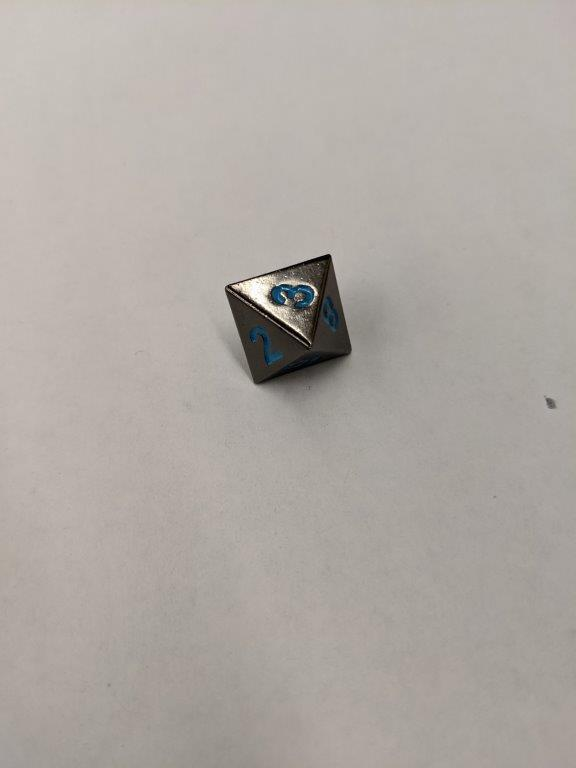d8-3: (226, 252, 357, 389)
